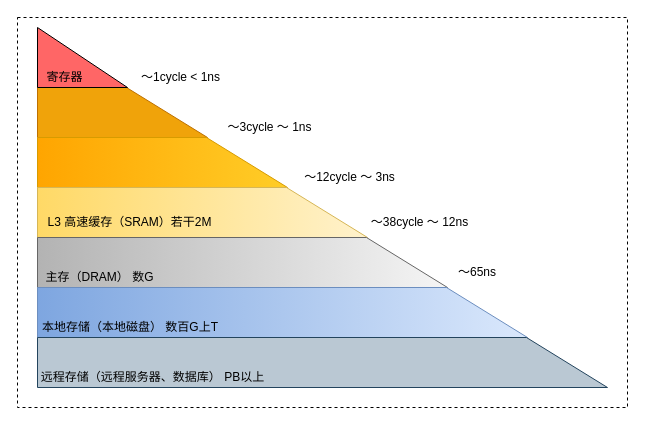
The diagram is 645 pixels wide and 425 high, and some of its shapes have lost their labels. The shapes that lost their labels are listed below. From the top down, each one's centre as x and y in pixels, then its label:
At (x=122, y=112): "L1 高速缓存（SRAM）32k".
At (x=162, y=162): "L2 高速缓存（SRAM）256k".
